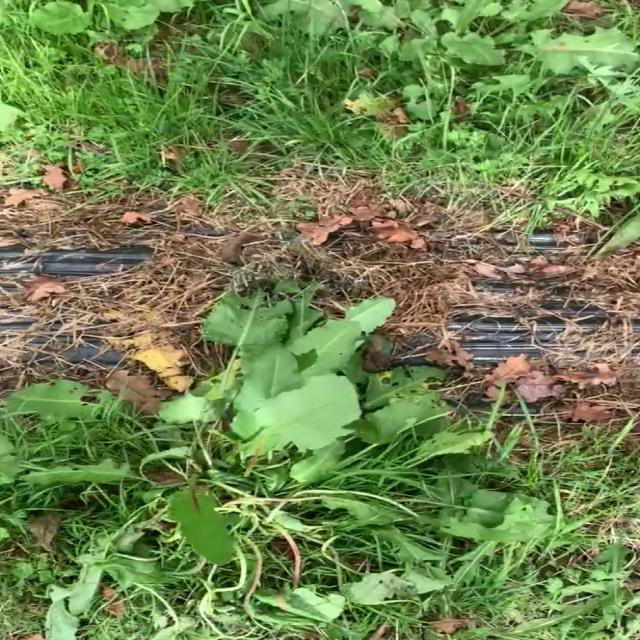organic waste: (13, 297, 579, 640), (275, 0, 640, 138), (24, 0, 205, 60)
